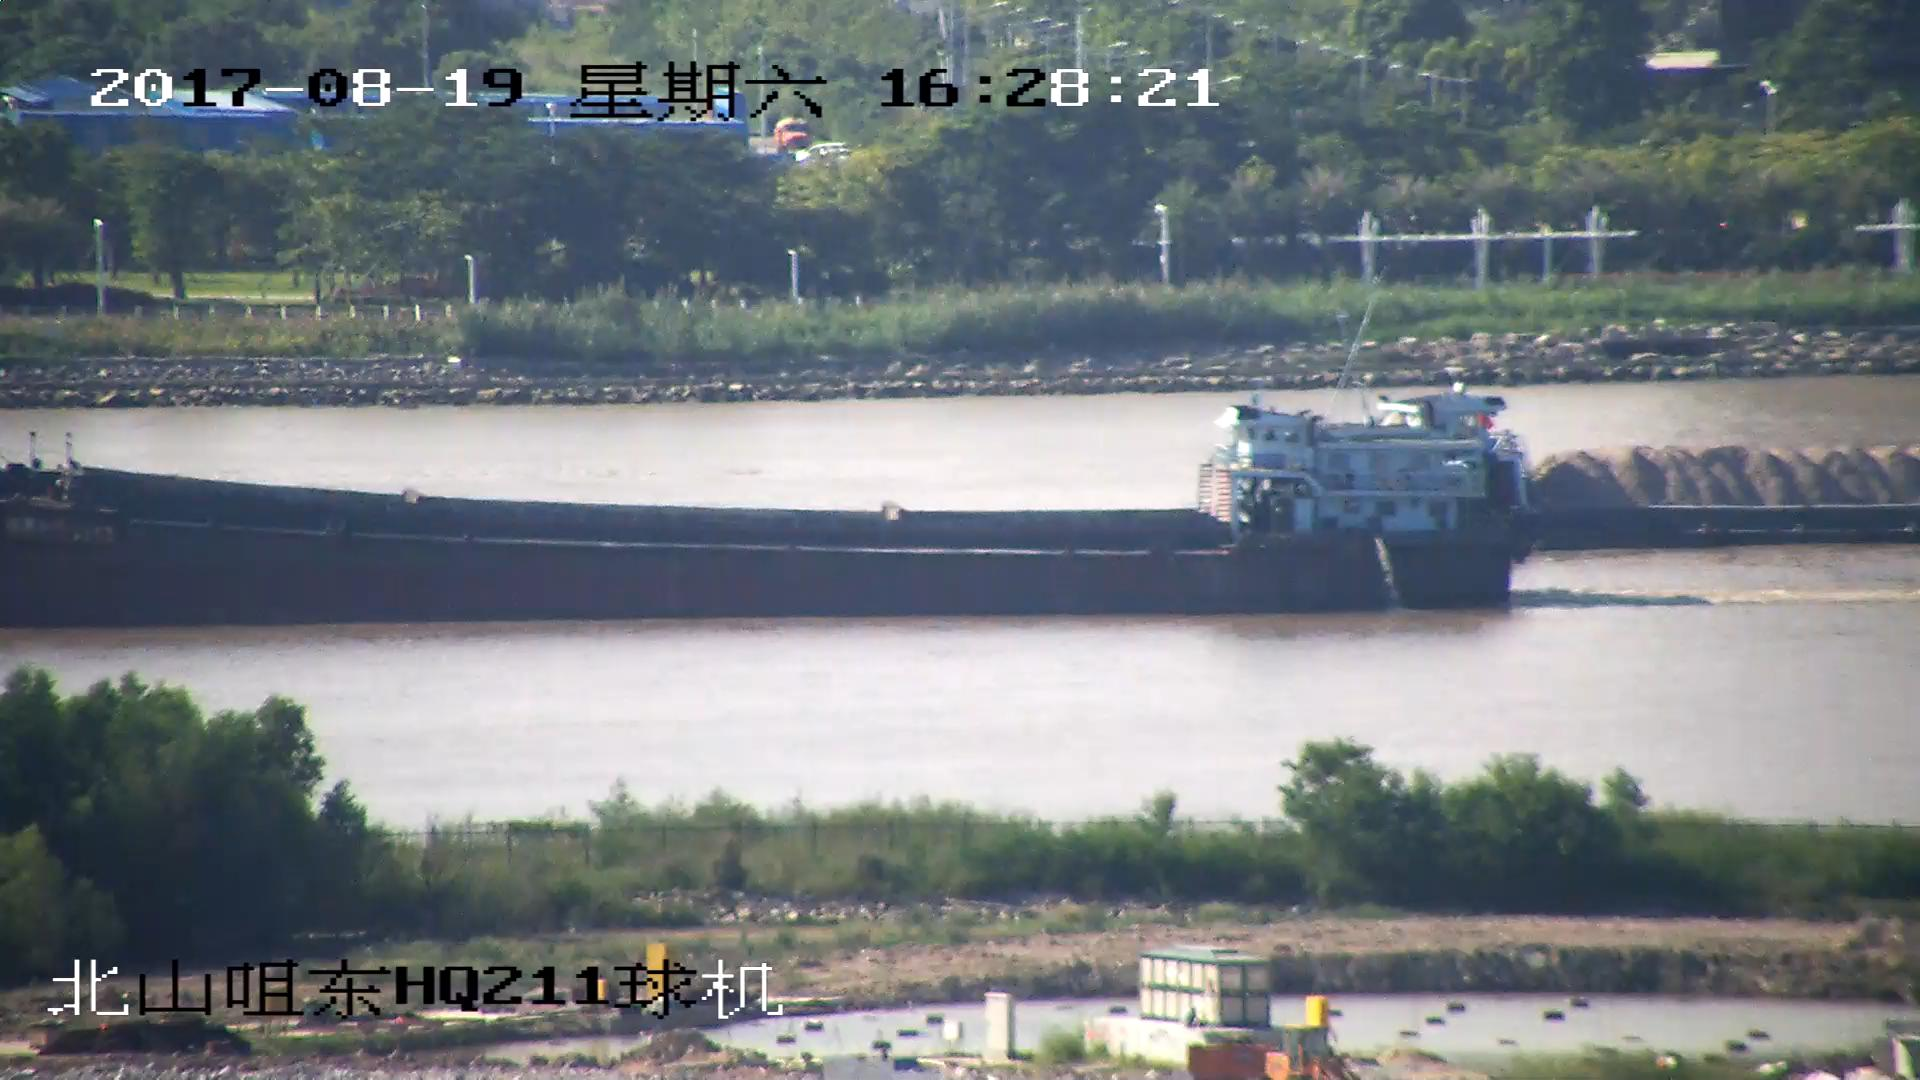bulk cargo carrier: (1, 405, 1524, 616)
ore carrier: (1196, 396, 1920, 543)
